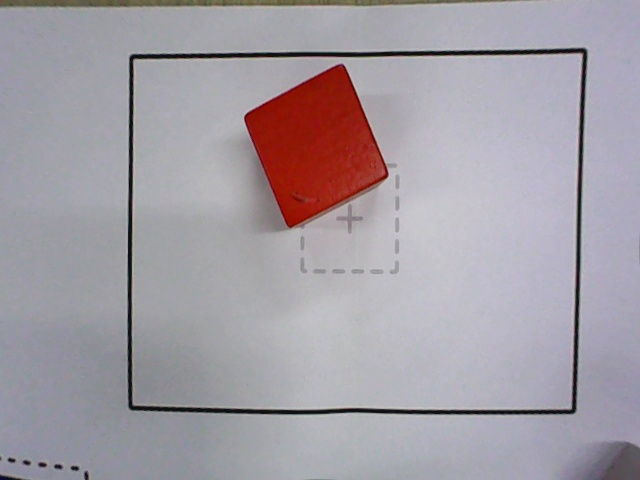upside of big cube: (243, 61, 387, 230)
